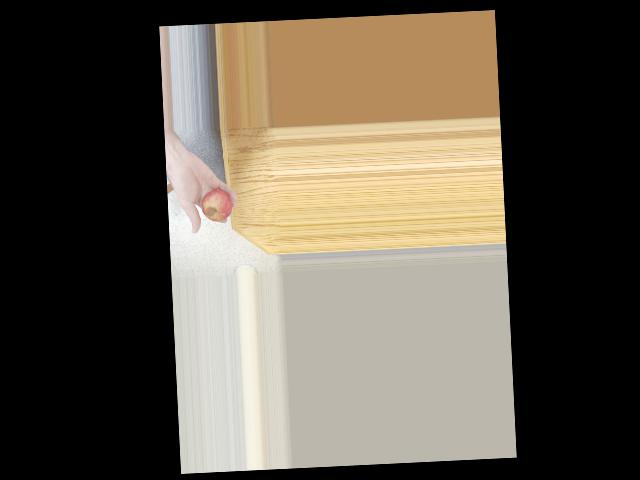apple: (197, 185, 232, 223)
